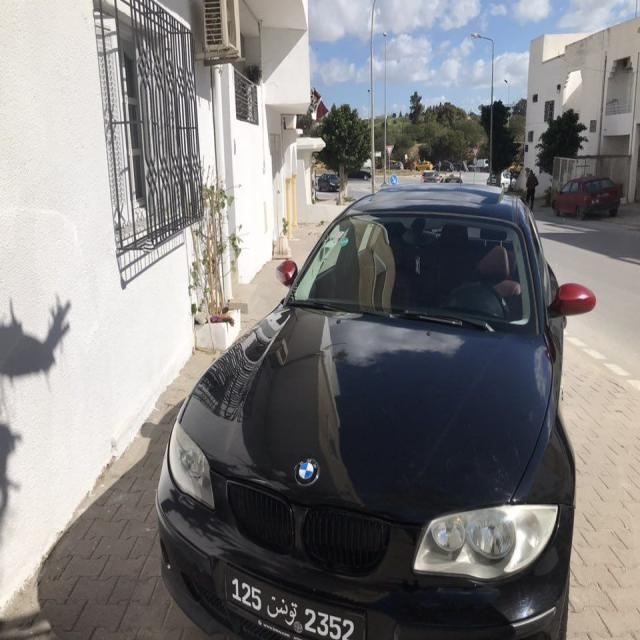LP: (223, 564, 365, 639)
